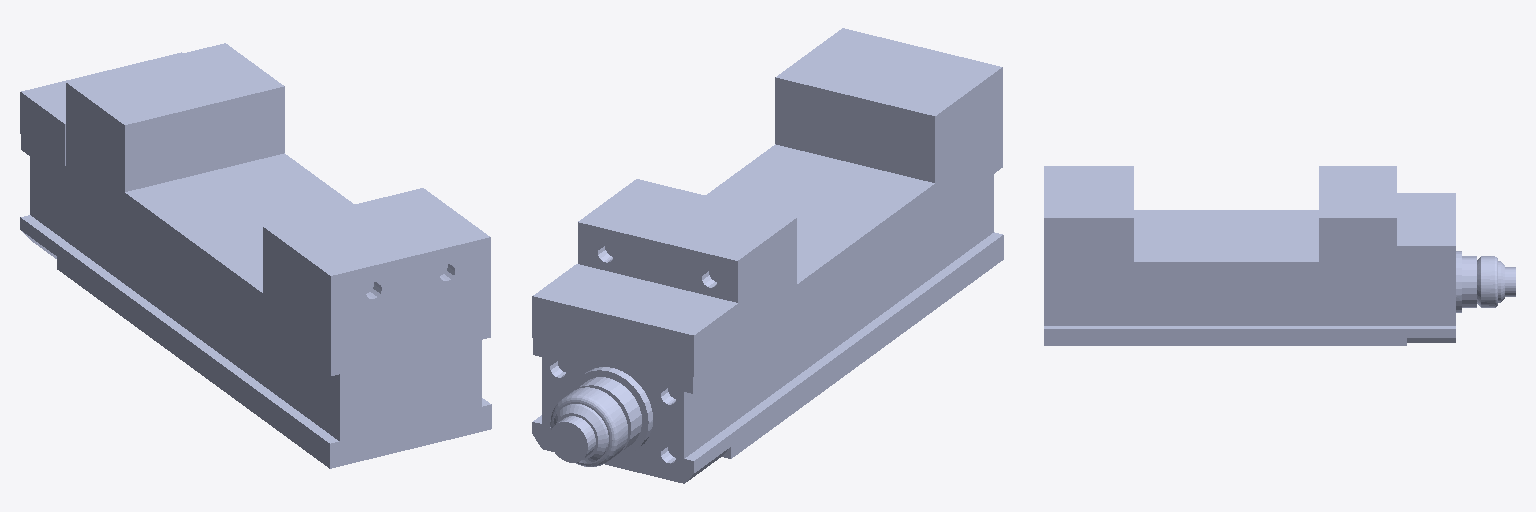
The robot description file, URDF, robot "PVS_1000_chuck":
<?xml version="1.0" encoding="utf-8"?>
<!-- This URDF was automatically created by SolidWorks to URDF Exporter! Originally created by [author] ([email redacted]) 
     Commit Version: 1.5.1-0-g916b5db  Build Version: 1.5.7152.31018
     For more information, please see http://wiki.ros.org/sw_urdf_exporter -->
<robot
  name="PVS_1000_chuck">
  <link
    name="PVS_1000_chuck">
    <inertial>
      <origin
        xyz="0.05 0.16663 0.043717"
        rpy="0 0 0" />
      <mass
        value="3.4926" />
      <inertia
        ixx="0.039719"
        ixy="6.2622E-19"
        ixz="4.8383E-19"
        iyy="0.006139"
        iyz="-0.00014653"
        izz="0.038919" />
    </inertial>
    <visual>
      <origin
        xyz="0 0 0"
        rpy="0 0 0" />
      <geometry>
        <mesh filename="package://tx90_path_planner/meshes/PVS_1000_chuck.STL" />
      </geometry>
      <material
        name="">
        <color
          rgba="0.79216 0.81961 0.93333 1" />
        <texture
          filename="package://PVS_1000_chuck/textures/" />
      </material>
    </visual>
    <collision>
      <origin
        xyz="0 0 0"
        rpy="0 0 0" />
      <geometry>
        <mesh
          filename="package://PVS_1000_chuck/meshes/PVS_1000_chuck.STL" />
      </geometry>
    </collision>
  </link>
</robot>

--- Render facts (derived) ---
The picture shows the robot from 3 angles, left to right: view 1: azimuth 30°, elevation 25°; view 2: azimuth 150°, elevation 25°; view 3: azimuth 270°, elevation 25°; orthographic projection.
Robot: PVS_1000_chuck — 1 links, 0 joints (none); root link PVS_1000_chuck; default pose: every joint at zero.
Visible links, largest first — view 1: PVS_1000_chuck; view 2: PVS_1000_chuck; view 3: PVS_1000_chuck.
Link boxes in pixels (x1,y1,x2,y2): PVS_1000_chuck: (20,43,491,468); PVS_1000_chuck: (532,28,1003,483); PVS_1000_chuck: (1044,166,1515,345).
Size in the robot's own frame: 0.101 by 0.3832 by 0.115 metres.
1 mesh visuals loaded from 1 distinct referenced files (1 binary STL).